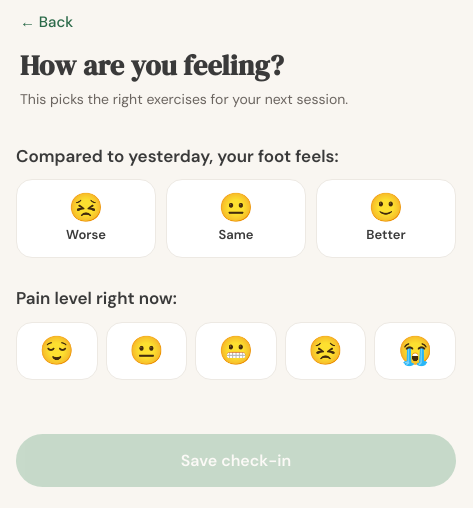
it: RehabCheckin › disables Save check-in until both feedback and pain are chosen
The width and height of the screenshot is (473, 508).
expect the button "Save check-in" is disabled: met, box [16, 434, 456, 487]
Click the text "Better": [386, 235] box [366, 226, 406, 243]
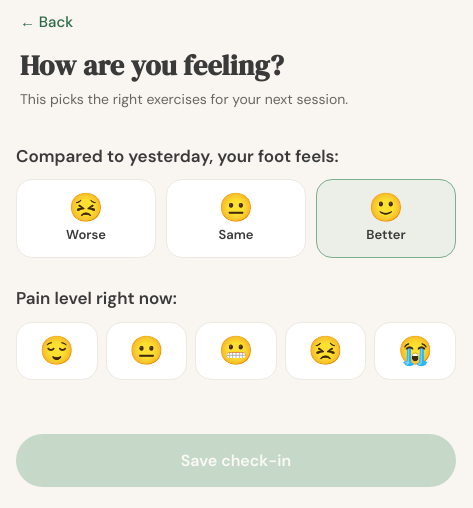
expect the button "Save check-in" is disabled: met, box [16, 434, 456, 487]
Click the button named "Mild pain": [146, 351] box [106, 322, 187, 380]
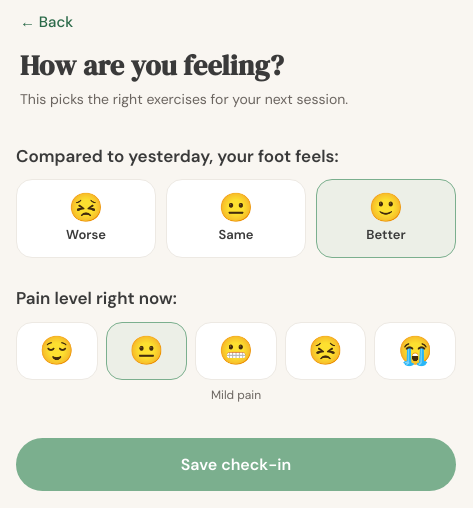
expect the button "Save check-in" is enabled: met, box [16, 438, 456, 491]
